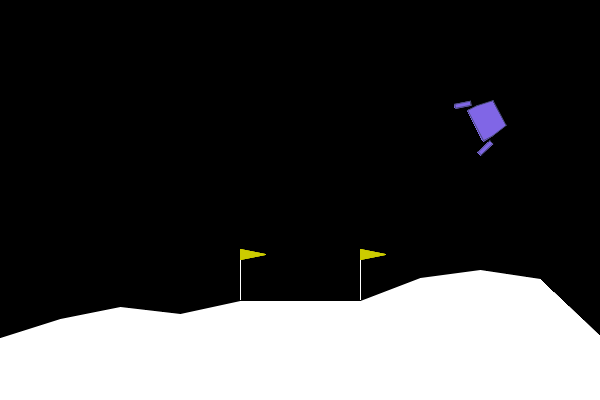lander: (452, 86, 515, 158)
